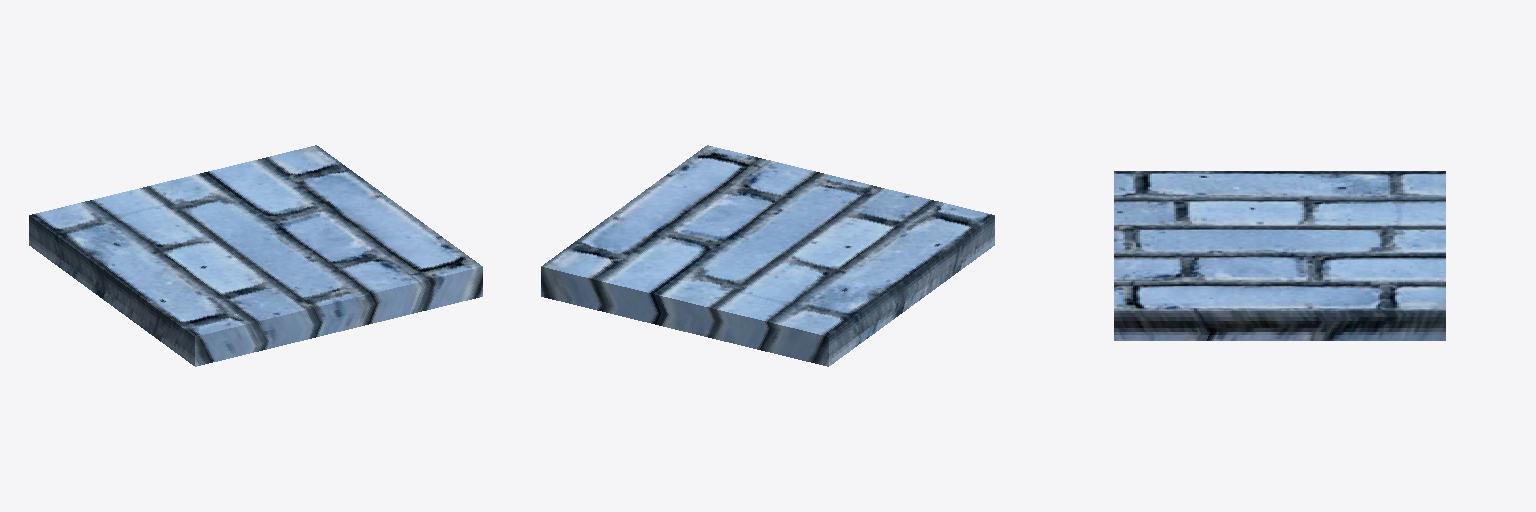
3 views of the same model, side by side, from view 1: azimuth 30°, elevation 25°; view 2: azimuth 150°, elevation 25°; view 3: azimuth 270°, elevation 25° (orthographic).
Visible parts, largest first — view 1: Box001; view 2: Box001; view 3: Box001.
Part boxes in pixels (left/top/right/bottom): Box001: left=29, top=145, right=482, bottom=366; Box001: left=541, top=145, right=994, bottom=366; Box001: left=1114, top=171, right=1445, bottom=340.
Size of the model in its own units: 5 by 0.5 by 5.
Materials: 1 (1 with a texture image).